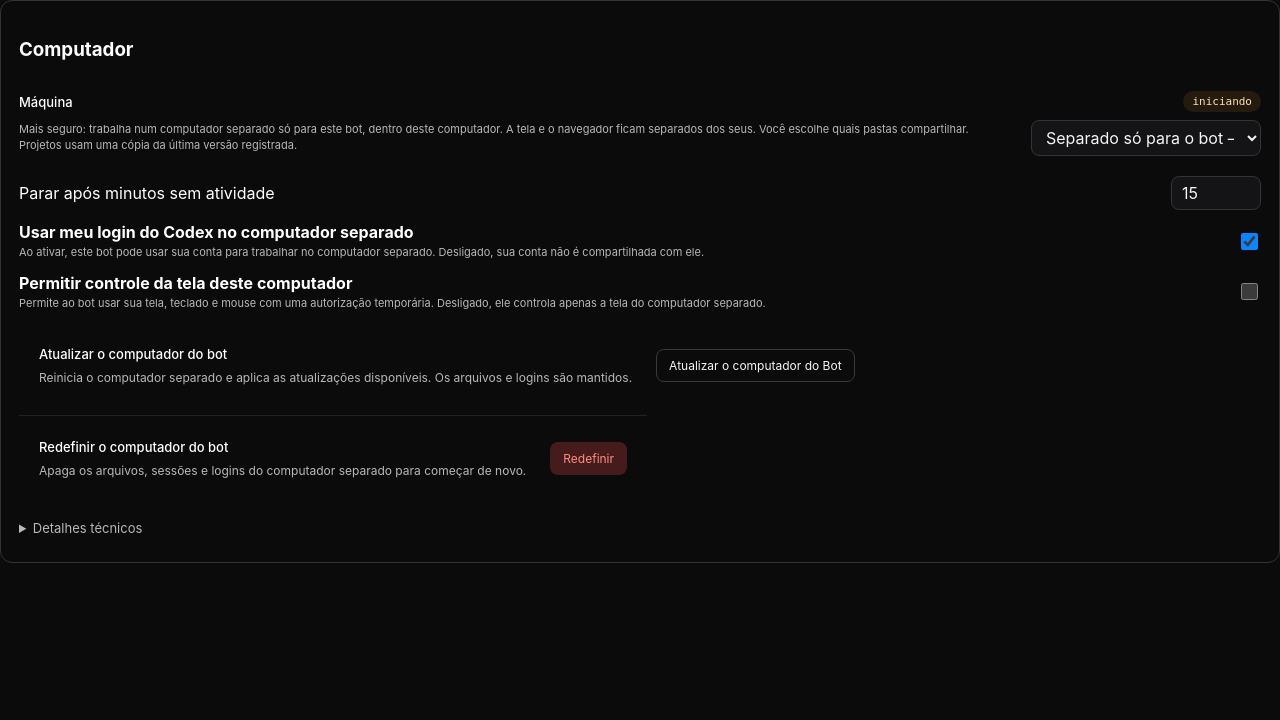
r4 P0/P1 recovery › offers cancellation and restart during VM bootstrap, and only sends it after confirmation
Click the button "Atualizar o computador do Bot" at (755, 365), box [656,348,855,382]
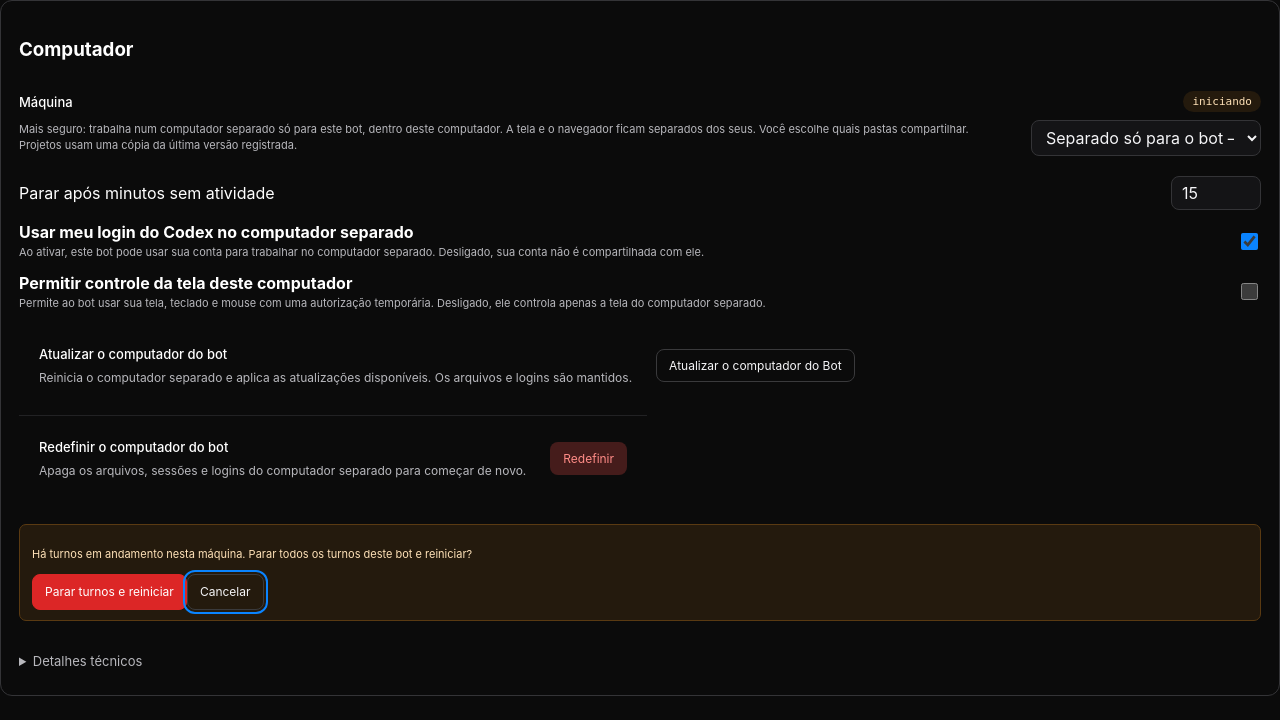
Click the button "Cancelar" at (225, 592), box [187,574,264,610]
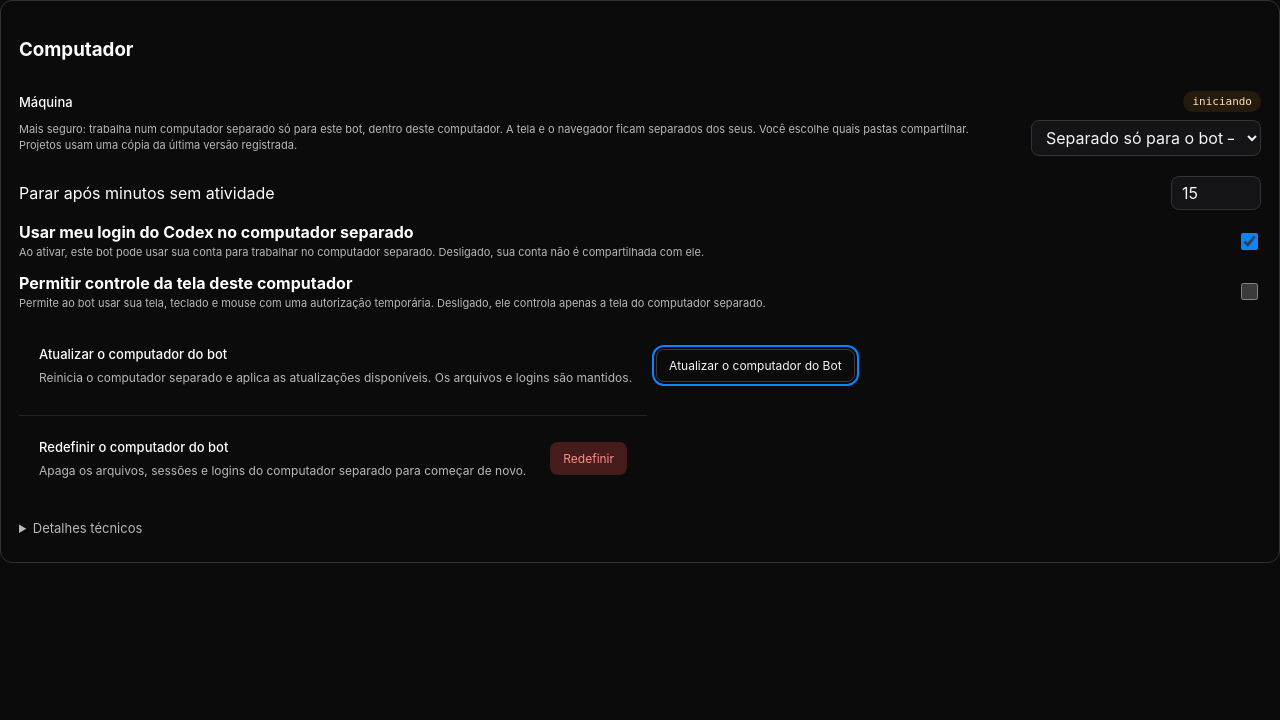
Click the button "Atualizar o computador do Bot" at (755, 365), box [656,348,855,382]
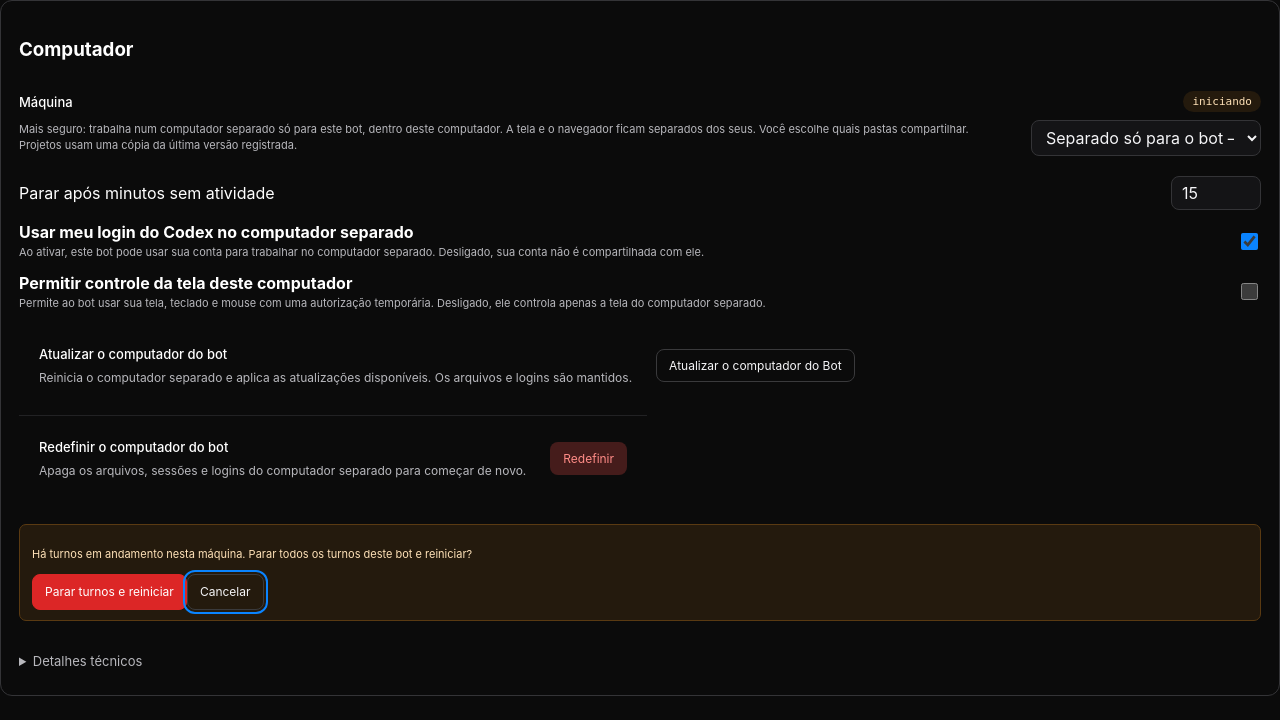
Click the button "Parar turnos e reiniciar" at (109, 592), box [32,574,187,610]
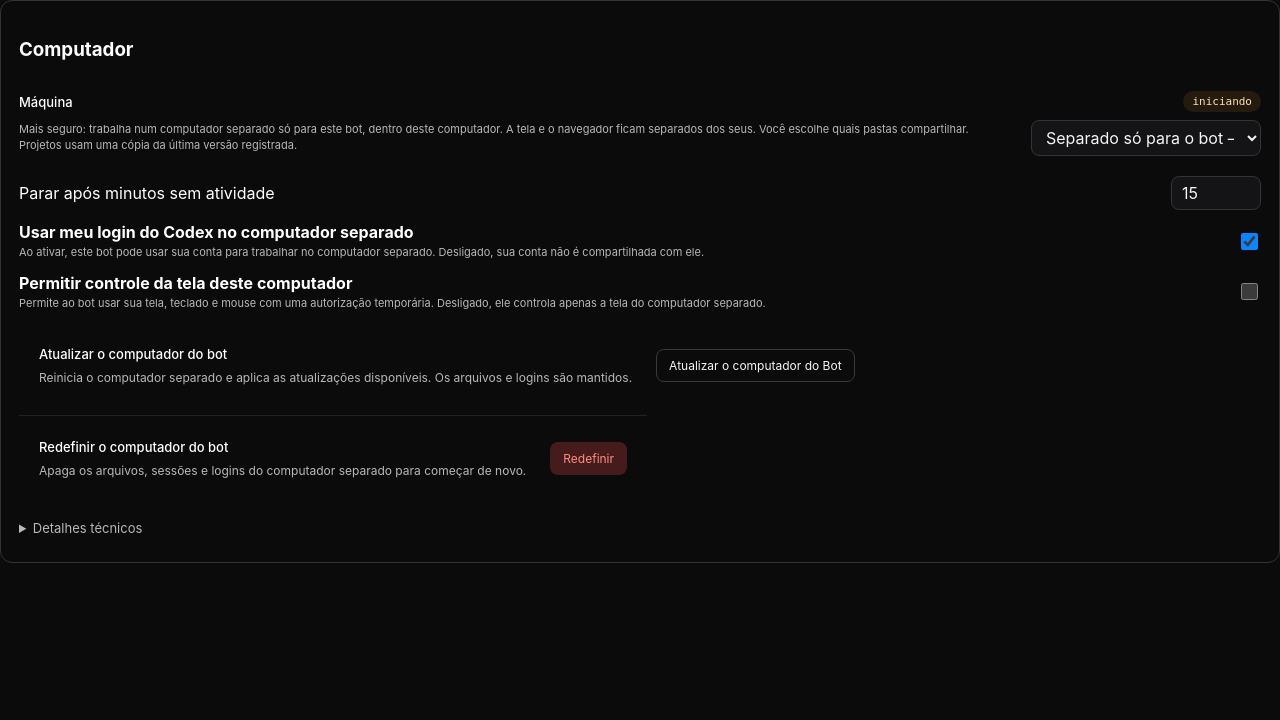
Check: the dialog is gone
